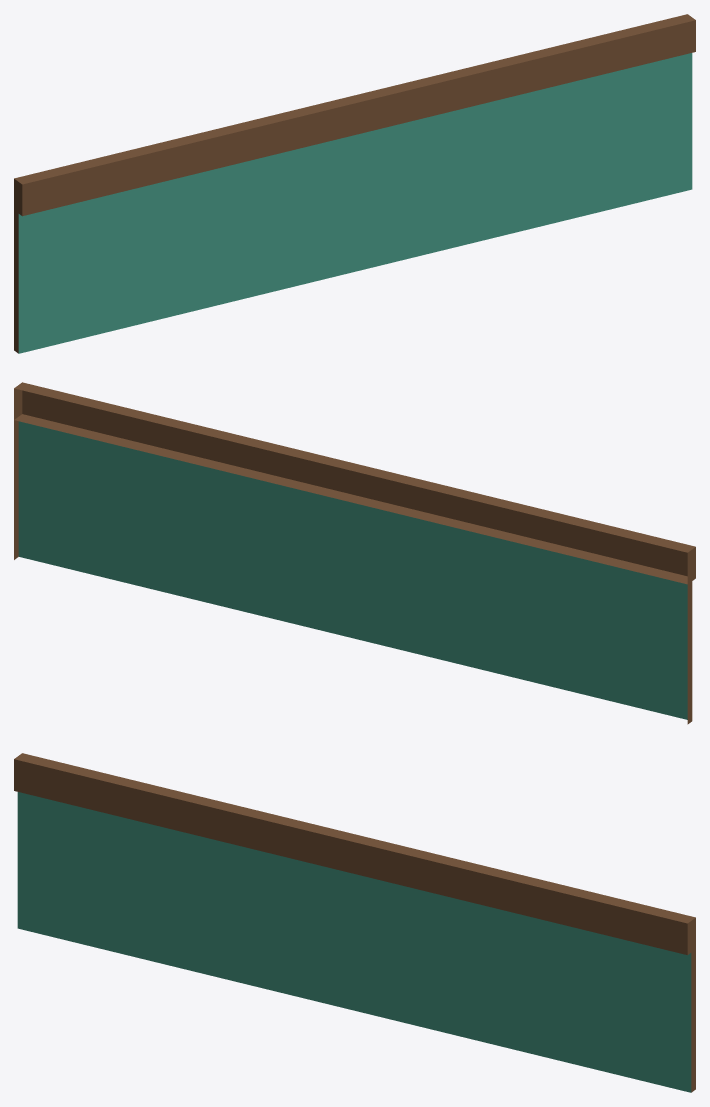
Rendered from Molding_4.fbx.
3 views of the same model, one above another, from view 1: azimuth 30°, elevation 25°; view 2: azimuth 150°, elevation 25°; view 3: azimuth 330°, elevation 25° (orthographic).
Parts seen in each view (by area): view 1: Molding_4; view 2: Molding_4; view 3: Molding_4.
Boxes of the visible parts, x1,y1,x2,y2 form: Molding_4: (14,14,695,353); Molding_4: (14,382,695,724); Molding_4: (14,753,695,1092).
Size of the model in its own units: 489 by 10.43 by 119.
